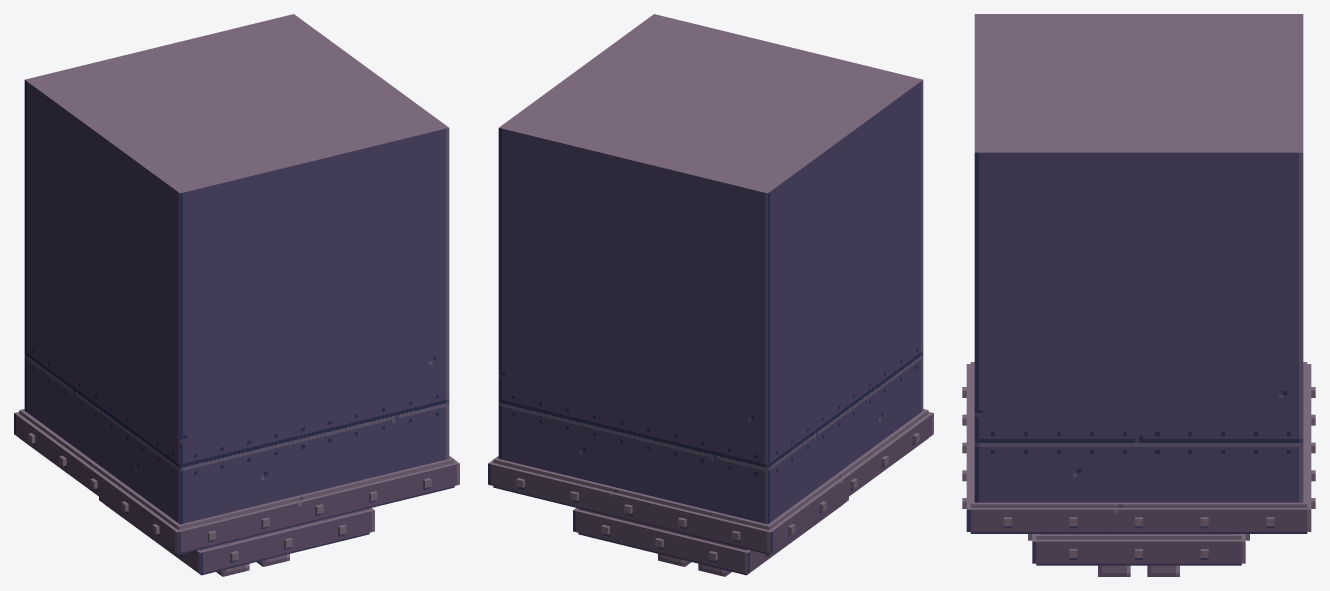
The model's file is gen_capao.fezao.glb.
The picture shows the model from 3 angles, left to right: view 1: azimuth 30°, elevation 25°; view 2: azimuth 150°, elevation 25°; view 3: azimuth 270°, elevation 25°; orthographic projection. The views are drawn at different scales.
Parts seen in each view (by area): view 1: GEN_CAPAO; view 2: GEN_CAPAO; view 3: GEN_CAPAO.
Boxes of the visible parts, box(x1,y1,x2,y2) form: GEN_CAPAO: box(14, 14, 459, 576); GEN_CAPAO: box(488, 14, 933, 576); GEN_CAPAO: box(962, 14, 1315, 576).
Bounding box in the file's own units: 5.38 × 8 × 5.38.
1 material, 1 textured.
